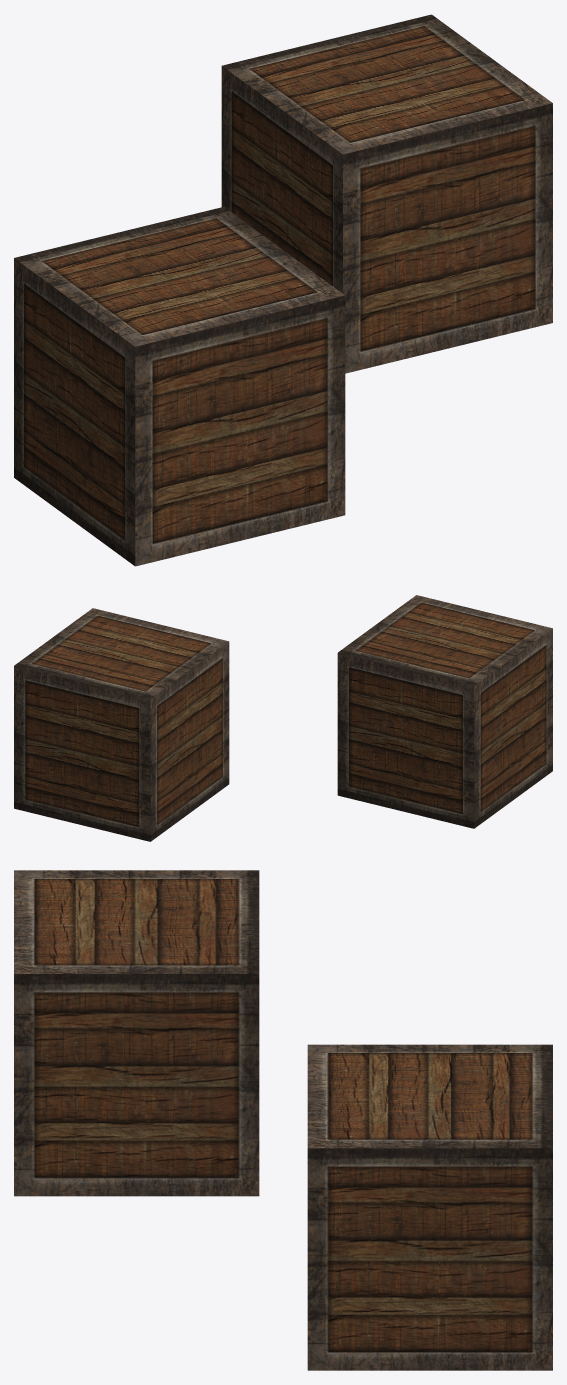
The model's file is containers.obj.
3 views of the same model, one above another, from view 1: azimuth 30°, elevation 25°; view 2: azimuth 150°, elevation 25°; view 3: azimuth 270°, elevation 25° (orthographic). The views are drawn at different scales.
Parts seen in each view (by area): view 1: Cube, Cube.001; view 2: Cube, Cube.001; view 3: Cube, Cube.001.
Part boxes in pixels (x1,y1,x2,y2): Cube: (14, 207, 345, 566); Cube.001: (221, 14, 552, 373); Cube: (337, 595, 552, 828); Cube.001: (14, 608, 229, 841); Cube: (14, 870, 259, 1196); Cube.001: (307, 1044, 552, 1370).
Size of the model in its own units: 5.36 by 2 by 4.39.
